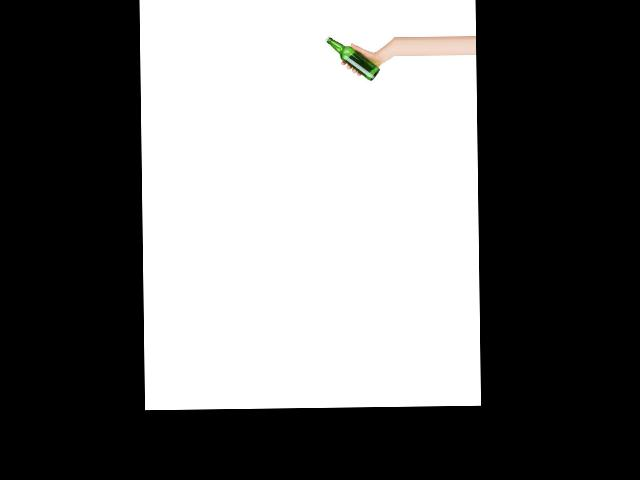beer: (326, 35, 381, 80)
